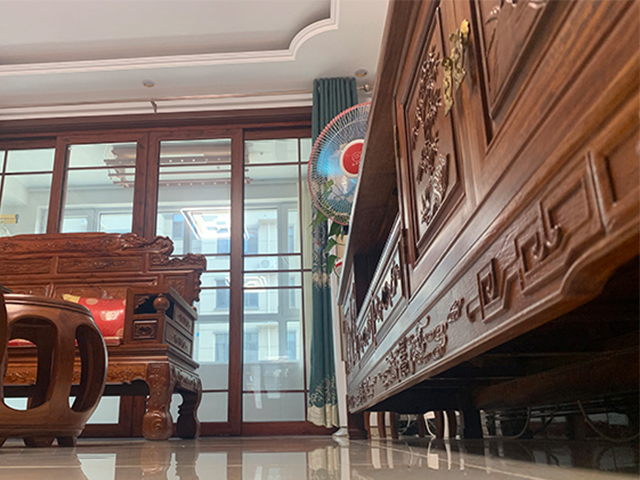cabinet: (338, 1, 640, 436)
curtain: (307, 77, 358, 429)
sofa: (1, 231, 208, 442)
stool: (1, 294, 109, 447)
